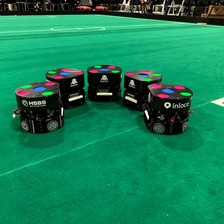robot: (141, 80, 194, 136), (12, 79, 64, 135), (83, 61, 121, 100), (122, 67, 148, 112), (61, 64, 85, 110)
